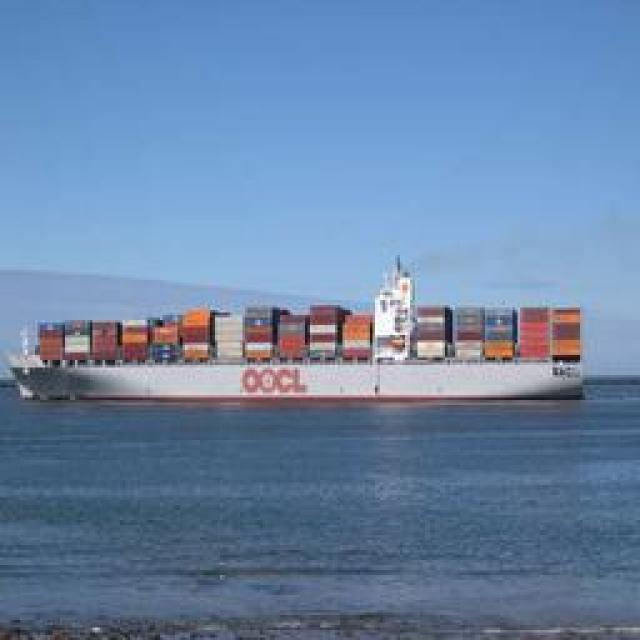CIV_Ship: (16, 298, 596, 404)
